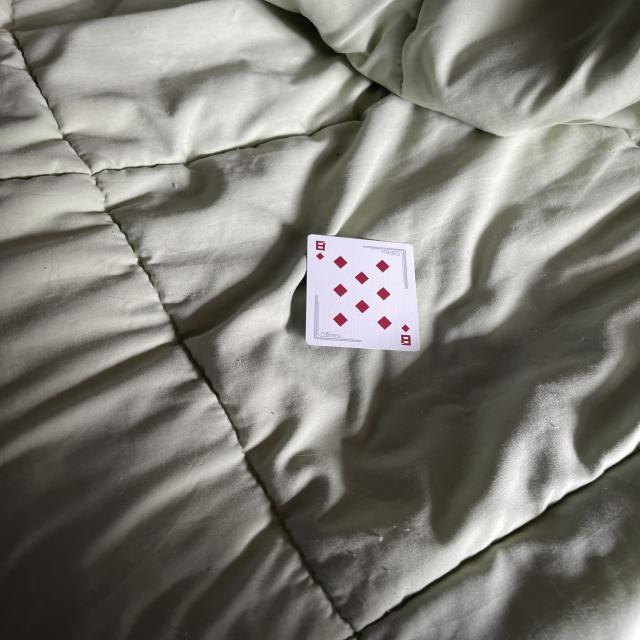8 of diamonds: (306, 235, 420, 351)
